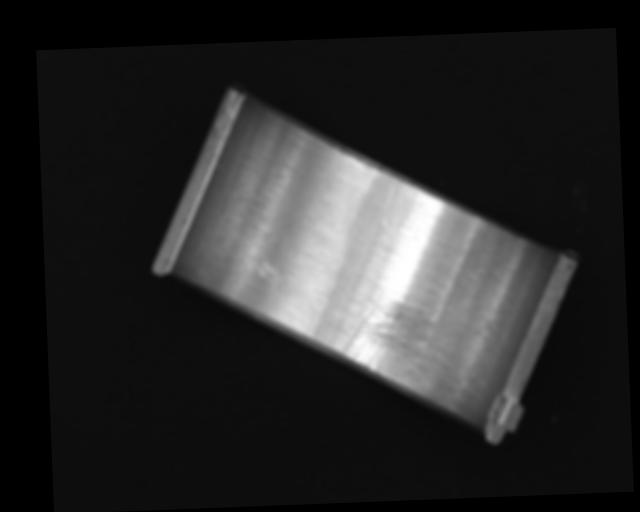bruise: (256, 259, 288, 286)
nick: (381, 182, 395, 226)
scratch: (338, 291, 446, 411)
